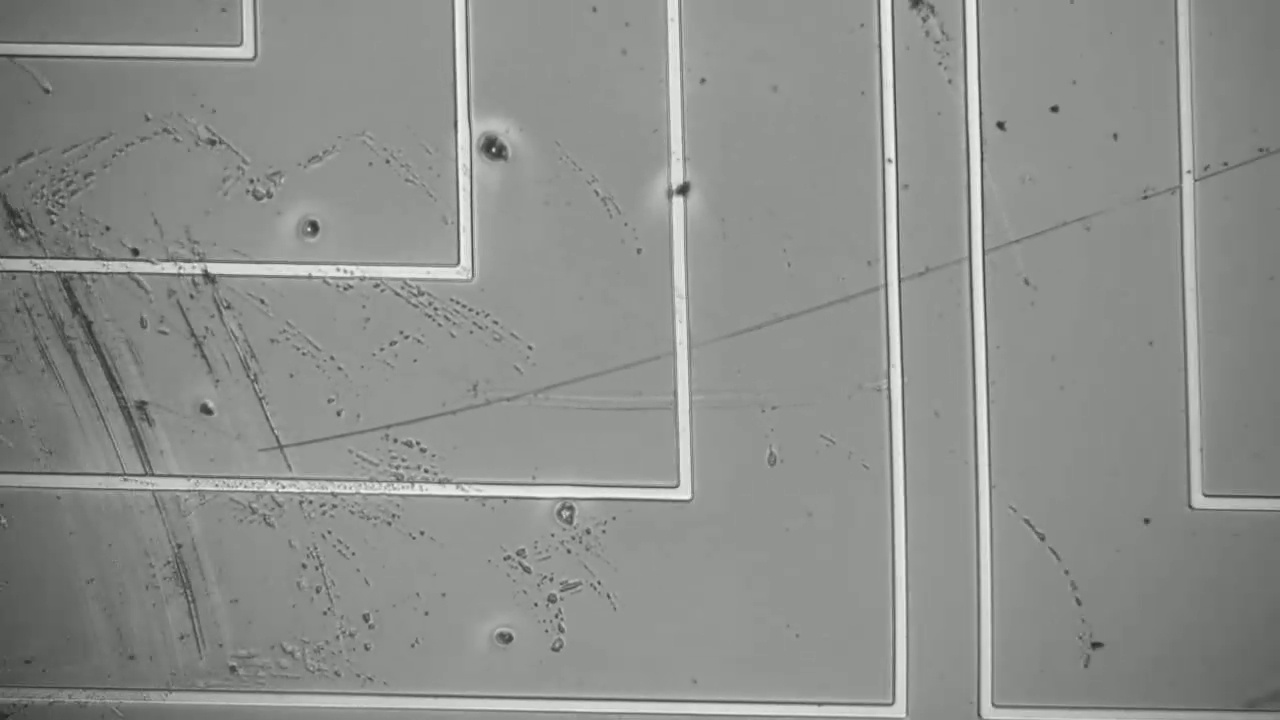scratch: (273, 162, 1252, 454), (44, 258, 195, 647), (190, 239, 329, 600), (1003, 511, 1107, 645)
stains_enbedded: (657, 172, 701, 221)
